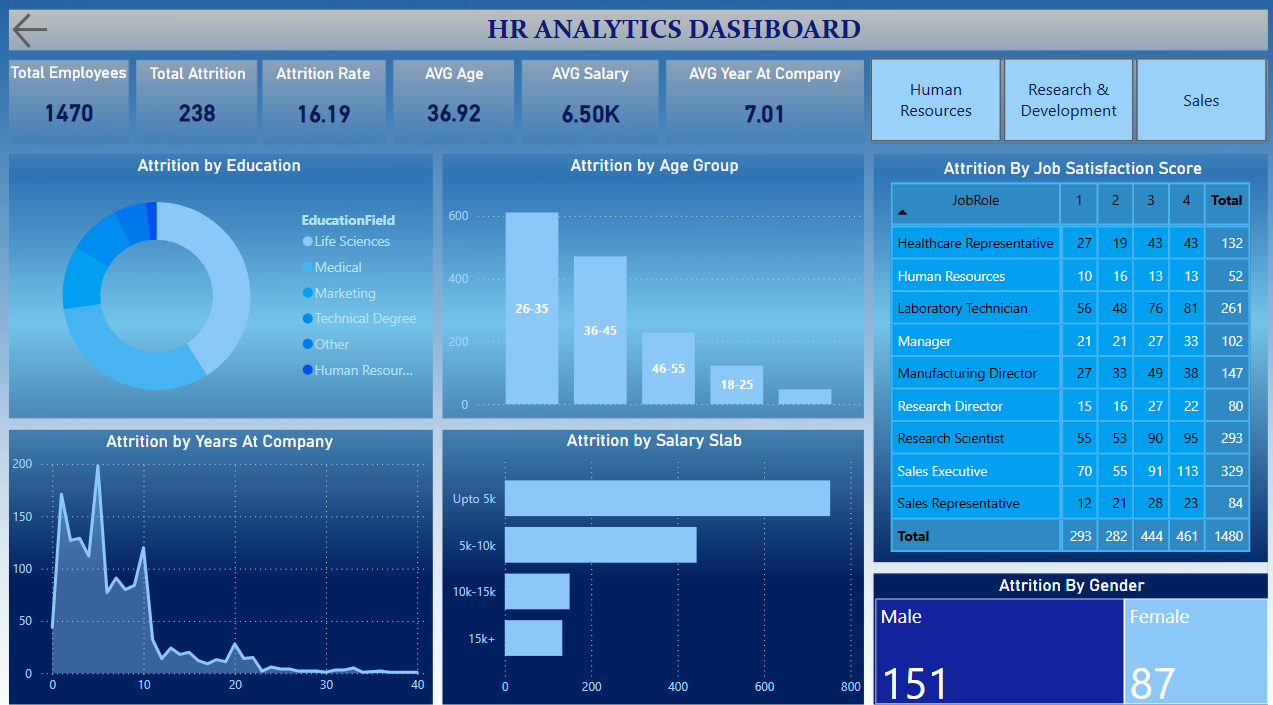

The dashboard page shown, as its layout file describes it:
{"tool":"powerbi","page":{"name":"Page 1","canvas":[1280,720],"ordinal":0},"visuals":[{"type":"card","title":"Total Employees","fields":{"Values":["Count(HR_Analytics.EmpID)"]},"box":[0,64,128,80],"z":0},{"type":"card","title":"Total Attrition","fields":{"Values":["HR_Analytics.total attrition"]},"box":[144,64,112,80],"z":1000},{"type":"card","title":"Attrition Rate","fields":{"Values":["HR_Analytics.Attrition Rate"]},"box":[272,64,112,80],"z":2000},{"type":"card","title":"AVG Age","fields":{"Values":["Avg(HR_Analytics.Age)"]},"box":[400,64,112,80],"z":3000},{"type":"card","title":"AVG Salary","fields":{"Values":["Avg(HR_Analytics.MonthlyIncome)"]},"box":[528,64,128,80],"z":4000},{"type":"card","title":"AVG Year At Company","fields":{"Values":["Avg(HR_Analytics.YearsAtCompany)"]},"box":[672,64,176,80],"z":5000},{"type":"slicer","fields":{"Values":["HR_Analytics.Department"]},"box":[864,64,416,80],"z":6000},{"type":"pivotTable","title":"Attrition By Job Satisfaction Score","fields":{"Rows":["HR_Analytics.JobRole"],"Columns":["HR_Analytics.JobSatisfaction"],"Values":["CountNonNull(HR_Analytics.JobSatisfaction)"]},"box":[880,160,384,400],"z":7000},{"type":"actionButton","box":[0,0,100,40],"z":8000},{"type":"donutChart","title":"Attrition by Education","fields":{"Y":["CountNonNull(HR_Analytics.Attrition)"],"Category":["HR_Analytics.EducationField"]},"box":[0,160,432,256],"z":9000},{"type":"areaChart","title":"Attrition by Years At Company","fields":{"Category":["HR_Analytics.YearsAtCompany"],"Y":["CountNonNull(HR_Analytics.Attrition)"]},"box":[0,432,432,272],"z":10000},{"type":"clusteredColumnChart","title":"Attrition by Age Group","fields":{"Category":["HR_Analytics.AgeGroup"],"Y":["CountNonNull(HR_Analytics.Attrition)"]},"box":[448,160,416,256],"z":11000},{"type":"clusteredBarChart","title":"Attrition by Salary Slab","fields":{"Y":["CountNonNull(HR_Analytics.Attrition)"],"Category":["HR_Analytics.SalarySlab"]},"box":[448,432,416,272],"z":12000},{"type":"treemap","title":"Attrition By Gender","fields":{"Group":["HR_Analytics.Gender"],"Values":["CountNonNull(HR_Analytics.Attrition)"]},"box":[880,576,384,128],"z":13000},{"type":"textbox","box":[288,0,784,48],"z":14000}]}

Visuals, with their boxes in screenshot pixels (x1, y1, x2, y2), scaled from the page's 1280x720 canvas onto the 1273x705 screenshot:
"Total Employees" card: <bbox>0, 63, 127, 141</bbox>
"Total Attrition" card: <bbox>143, 63, 255, 141</bbox>
"Attrition Rate" card: <bbox>271, 63, 382, 141</bbox>
"AVG Age" card: <bbox>398, 63, 509, 141</bbox>
"AVG Salary" card: <bbox>525, 63, 652, 141</bbox>
"AVG Year At Company" card: <bbox>668, 63, 843, 141</bbox>
slicer - HR_Analytics.Department: <bbox>859, 63, 1272, 141</bbox>
"Attrition By Job Satisfaction Score" pivotTable: <bbox>875, 157, 1257, 548</bbox>
actionButton: <bbox>0, 0, 99, 39</bbox>
"Attrition by Education" donutChart: <bbox>0, 157, 430, 407</bbox>
"Attrition by Years At Company" areaChart: <bbox>0, 423, 430, 689</bbox>
"Attrition by Age Group" clusteredColumnChart: <bbox>446, 157, 859, 407</bbox>
"Attrition by Salary Slab" clusteredBarChart: <bbox>446, 423, 859, 689</bbox>
"Attrition By Gender" treemap: <bbox>875, 564, 1257, 689</bbox>
textbox: <bbox>286, 0, 1066, 47</bbox>
